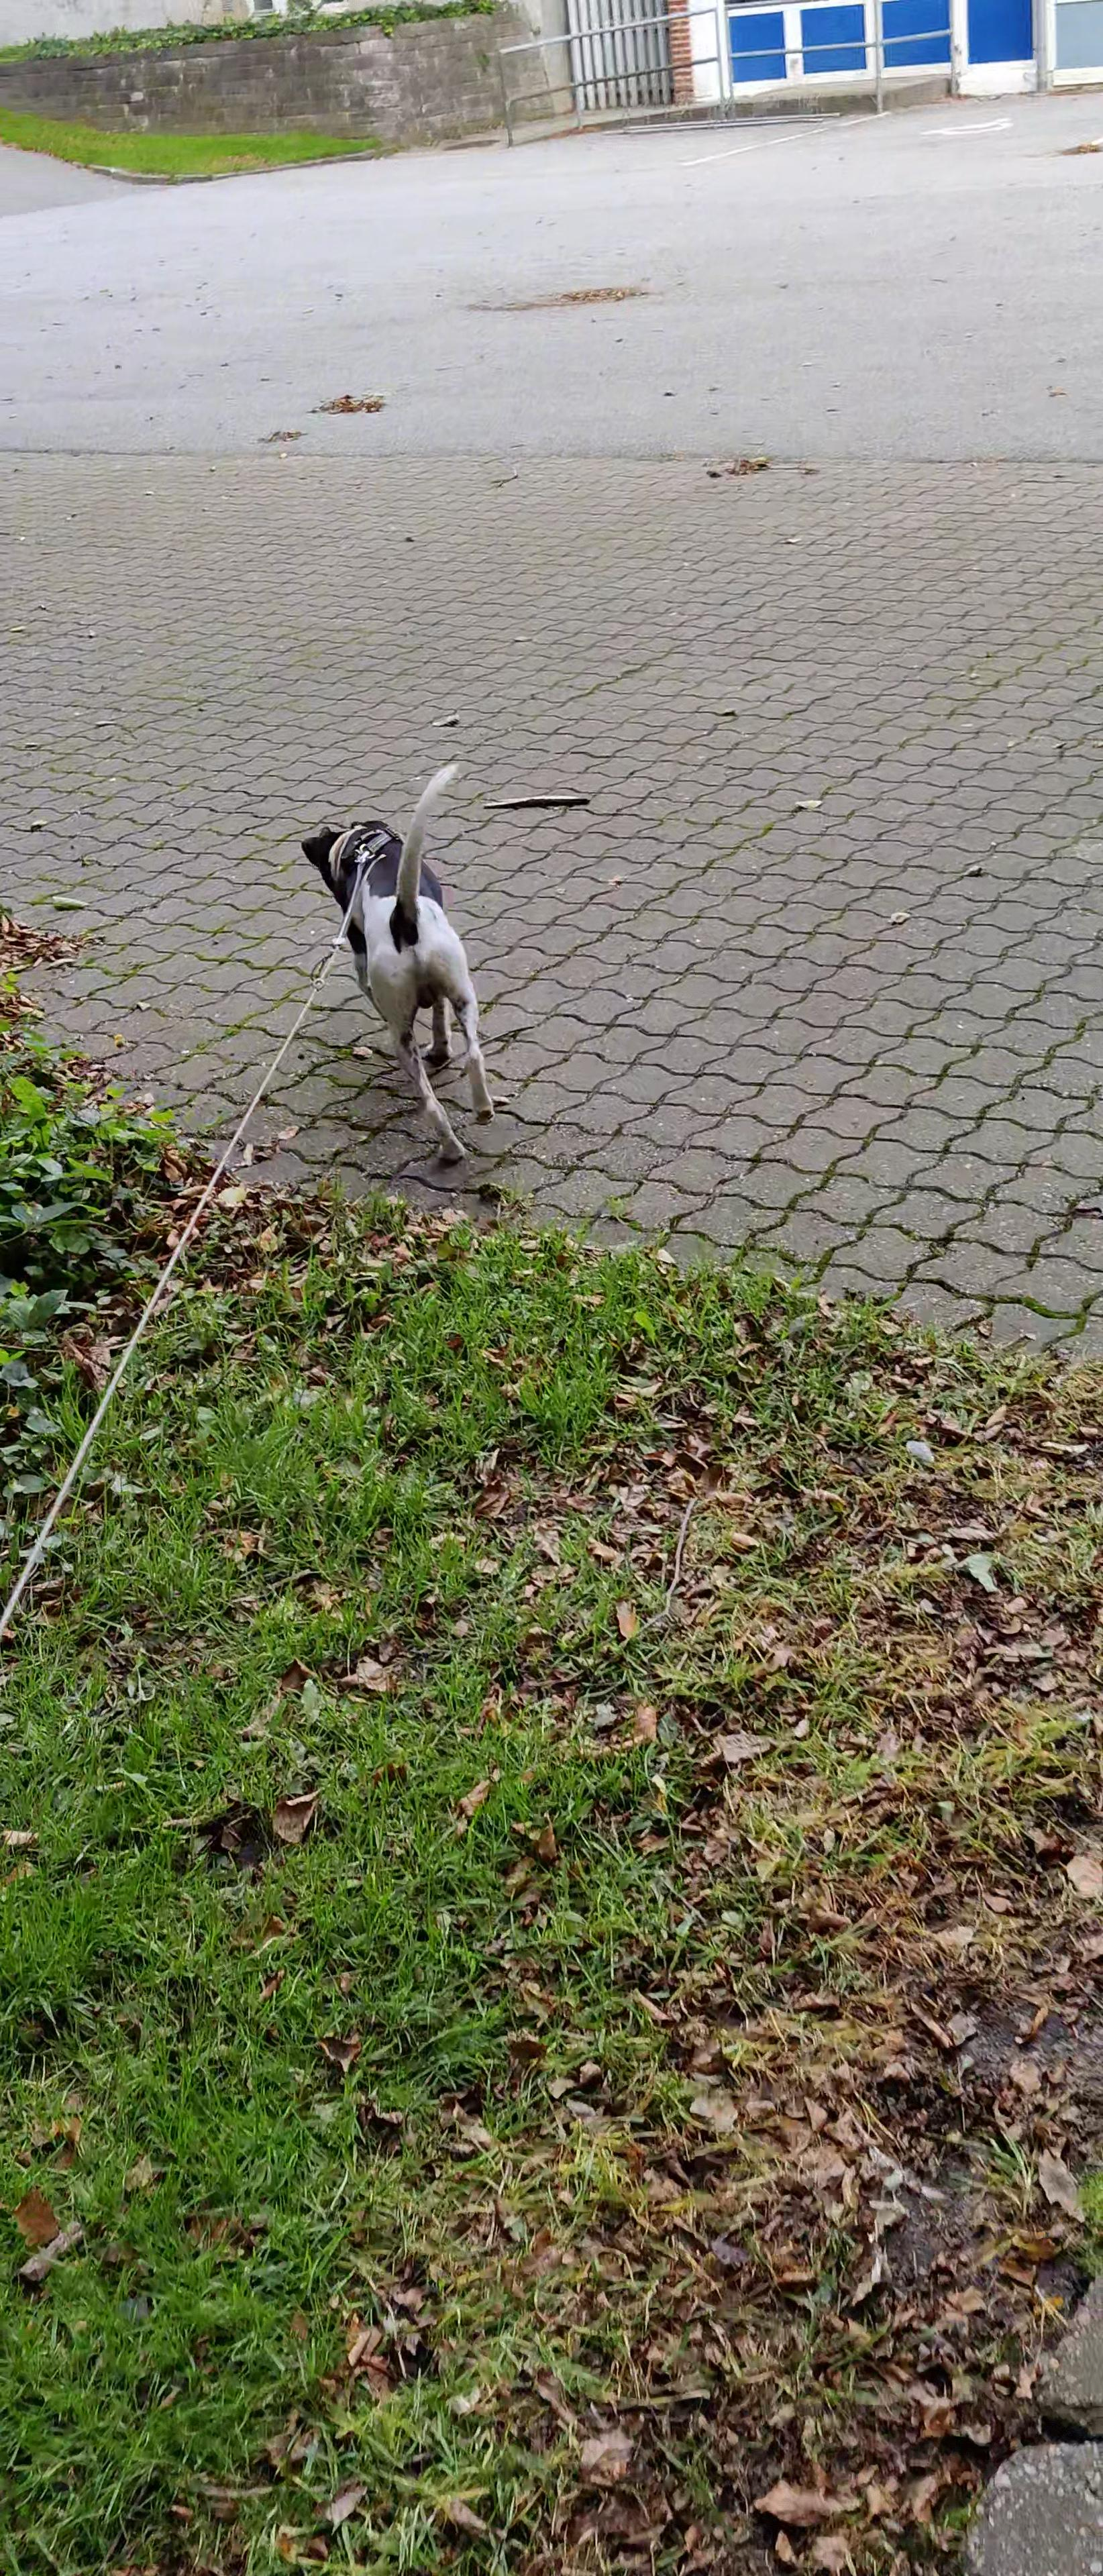Dog: (296, 751, 498, 1165)
